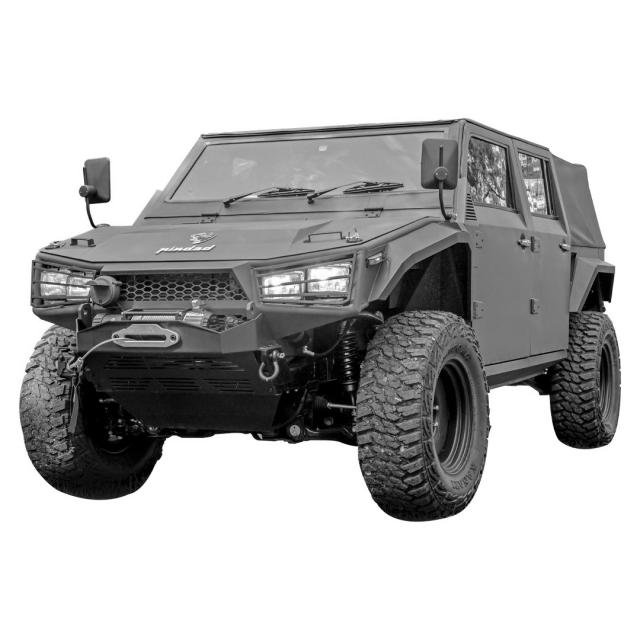Car: (19, 119, 620, 521)
